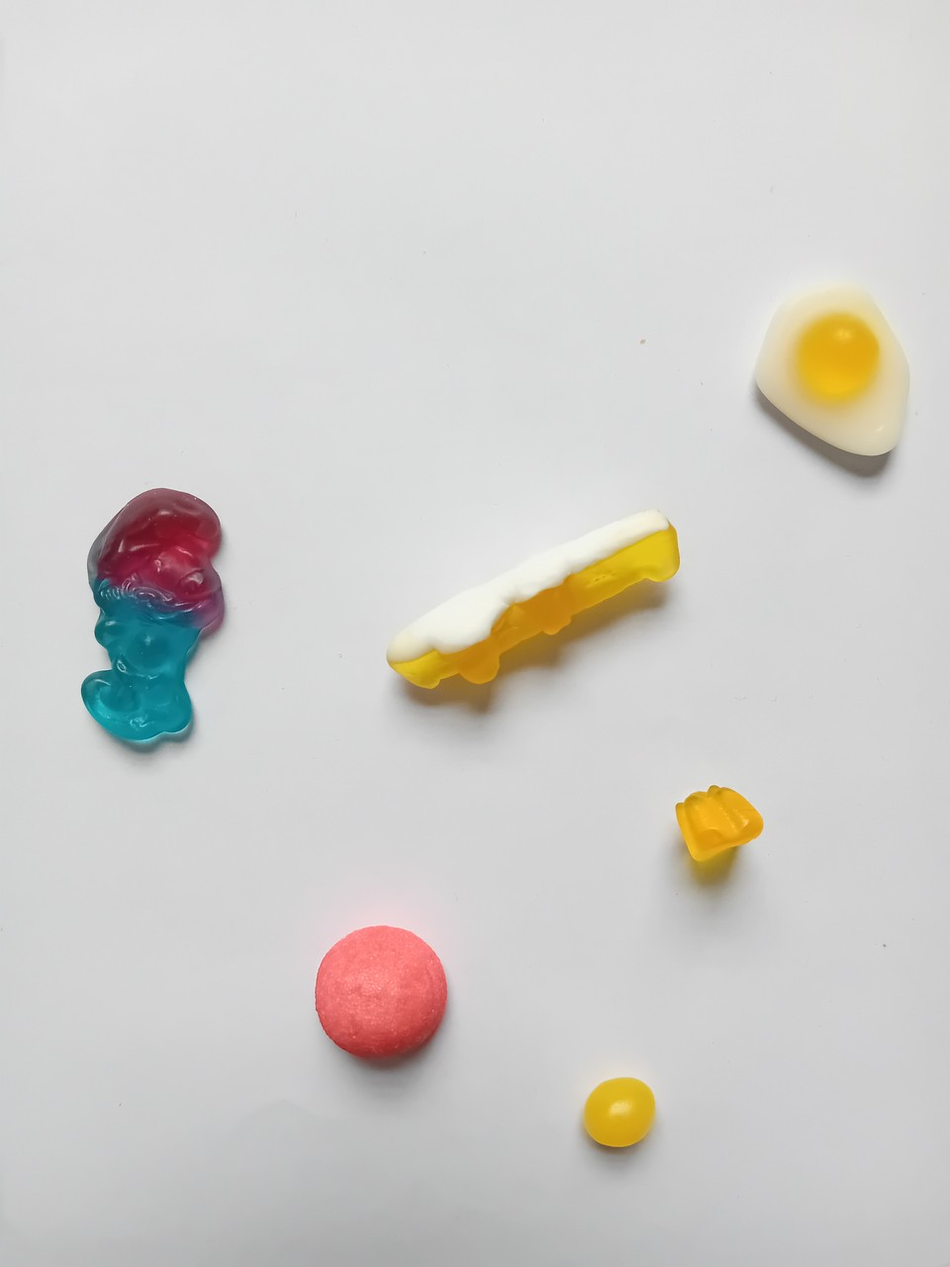crocodile_jaune: (378, 502, 687, 698)
dragibus_jaune: (565, 1065, 664, 1154)
oeuf_oeuf: (738, 268, 914, 463)
ourson_jaune: (669, 777, 768, 866)
schtroumpf_bleu-rouge: (67, 482, 232, 752)
tagada_fraise: (306, 921, 453, 1064)
